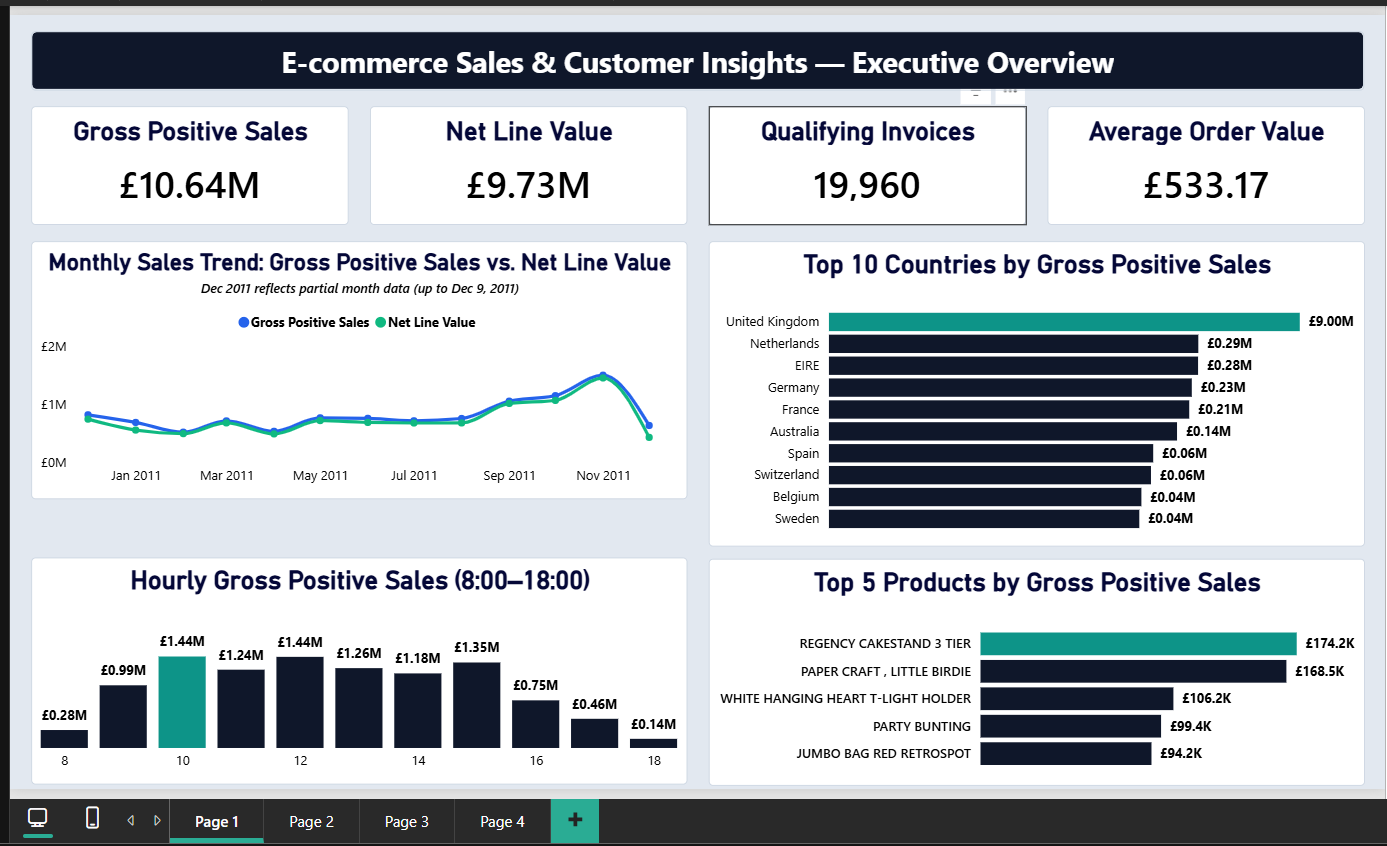

The dashboard page shown, as its layout file describes it:
{"tool":"powerbi","page":{"name":"Page 1","canvas":[1280,720],"ordinal":0},"visuals":[{"type":"cardVisual","title":"Gross Positive Sales","fields":{"Data":["_Measures.Gross Positive Sales"]},"box":[20,85,295,110],"z":0},{"type":"cardVisual","title":"Net Line Value","fields":{"Data":["_Measures.Net Line Value"]},"box":[335,85,295,110],"z":1000},{"type":"cardVisual","title":"Qualifying Invoices","fields":{"Data":["online_retail_mysql.Qualifying Orders"]},"box":[650,85,295,110],"z":2000},{"type":"cardVisual","title":"Average Order Value","fields":{"Data":["_Measures.Average Order Value (AOV)"]},"box":[965,85,295,110],"z":3000},{"type":"shape","title":"E-commerce Sales & Customer Insights — Executive Overview","box":[20.1,15,1240.2,55],"z":4000},{"type":"lineChart","title":"Monthly Sales Trend: Gross Positive Sales vs. Net Line Value","fields":{"Category":["online_retail_mysql.InvoiceDate.Variation.Date Hierarchy.Year","online_retail_mysql.InvoiceDate.Variation.Date Hierarchy.Month"],"Y":["_Measures.Gross Positive Sales","_Measures.Net Line Value"]},"box":[20,210,610,240],"z":5000},{"type":"clusteredBarChart","title":"Top 10 Countries by Gross Positive Sales","fields":{"Category":["online_retail_mysql.Country"],"Y":["_Measures.Gross Positive Sales"]},"box":[650,210,610,284],"z":6000},{"type":"clusteredColumnChart","title":"Hourly Gross Positive Sales (8:00–18:00)","fields":{"Category":["online_retail_mysql.hour"],"Y":["_Measures.Gross Positive Sales"]},"box":[20,505,610,211],"z":7000},{"type":"clusteredBarChart","title":"Top 5 Products by Gross Positive Sales","fields":{"Category":["online_retail_mysql.Description"],"Y":["_Measures.Gross Positive Sales"]},"box":[650,505.7,610,211.4],"z":8000}]}

Visuals, with their boxes on the page's 1280x720 design canvas (x1, y1, x2, y2). These are canvas units, not pixel positions in the 1387x846 screenshot, which may show the page scaled, cropped or inside an application window:
"Gross Positive Sales" cardVisual: <box>20,85,315,195</box>
"Net Line Value" cardVisual: <box>335,85,630,195</box>
"Qualifying Invoices" cardVisual: <box>650,85,945,195</box>
"Average Order Value" cardVisual: <box>965,85,1260,195</box>
"E-commerce Sales & Customer Insights — Executive Overview" shape: <box>20,15,1260,70</box>
"Monthly Sales Trend: Gross Positive Sales vs. Net Line Value" lineChart: <box>20,210,630,450</box>
"Top 10 Countries by Gross Positive Sales" clusteredBarChart: <box>650,210,1260,494</box>
"Hourly Gross Positive Sales (8:00–18:00)" clusteredColumnChart: <box>20,505,630,716</box>
"Top 5 Products by Gross Positive Sales" clusteredBarChart: <box>650,506,1260,717</box>
